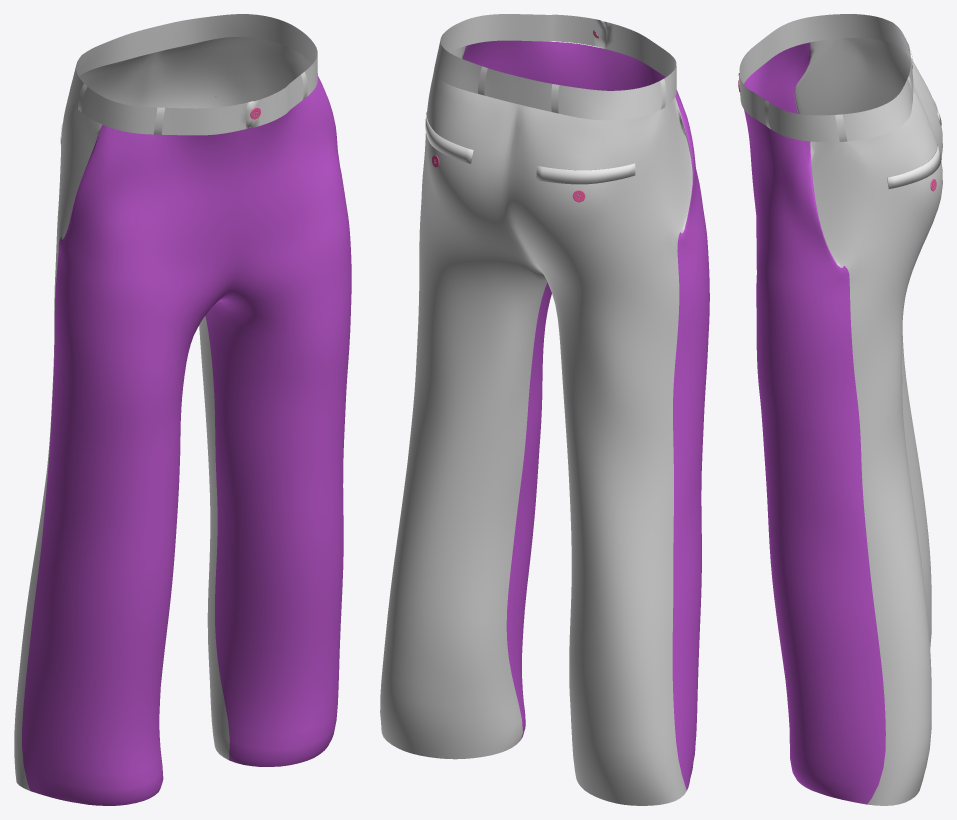
Rendered from Trousers_05.fbx.
3 renders of one model, left to right at view 1: azimuth 30°, elevation 25°; view 2: azimuth 150°, elevation 25°; view 3: azimuth 270°, elevation 25°, orthographic. The views are drawn at different scales.
Visible parts, largest first — view 1: SM_CSA_Trousers_01; view 2: SM_CSA_Trousers_01; view 3: SM_CSA_Trousers_01.
Boxes of the visible parts, left/top/right/bottom form: SM_CSA_Trousers_01: left=14, top=14, right=351, bottom=805; SM_CSA_Trousers_01: left=380, top=14, right=709, bottom=805; SM_CSA_Trousers_01: left=738, top=14, right=942, bottom=805.
Size of the model in its own units: 40.71 by 92.16 by 25.16.
